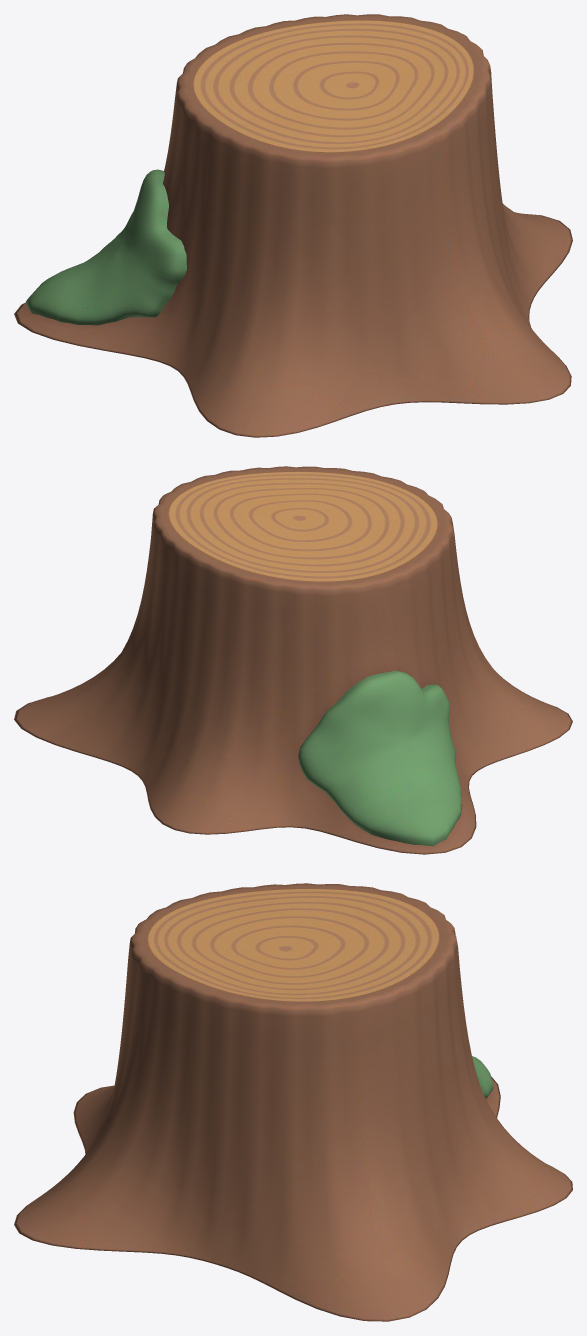
The model's file is tocon.glb.
3 views of the same model, one above another, from view 1: azimuth 30°, elevation 25°; view 2: azimuth 150°, elevation 25°; view 3: azimuth 270°, elevation 25° (orthographic). The views are drawn at different scales.
Parts seen in each view (by area): view 1: tree-stump_body; view 2: tree-stump_body; view 3: tree-stump_body.
Boxes of the visible parts, <box> form: tree-stump_body: <box>14,14,572,437</box>; tree-stump_body: <box>14,466,572,854</box>; tree-stump_body: <box>14,883,572,1321</box>.
Bounding box in the file's own units: 1.07 × 0.4841 × 0.9809.
Materials: 1 (1 with a texture image).
